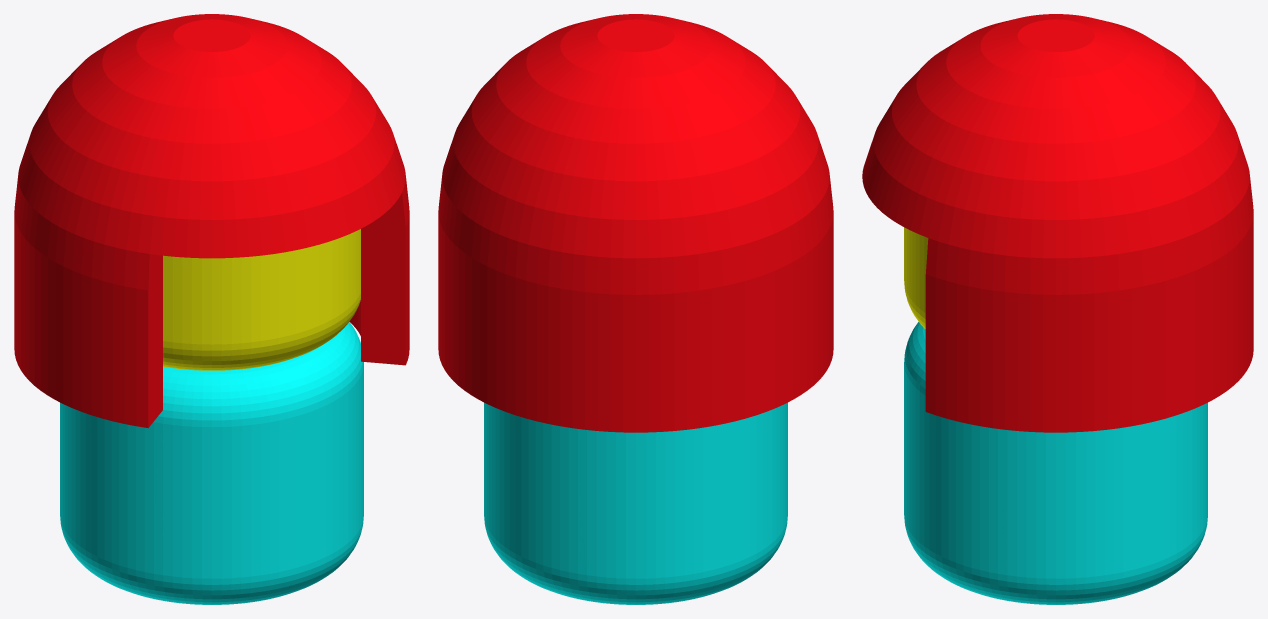
File: classic.glb
3 views of the same model, side by side, from view 1: azimuth 30°, elevation 25°; view 2: azimuth 150°, elevation 25°; view 3: azimuth 270°, elevation 25° (orthographic).
Parts seen in each view (by area): view 1: HAIR, BODY, FACE; view 2: HAIR, BODY; view 3: HAIR, BODY, FACE.
Boxes of the visible parts, x1=… form: HAIR: x1=14, y1=14, x2=409, y2=428; BODY: x1=60, y1=322, x2=363, y2=604; FACE: x1=163, y1=229, x2=360, y2=370; HAIR: x1=438, y1=14, x2=833, y2=432; BODY: x1=484, y1=402, x2=787, y2=604; HAIR: x1=862, y1=14, x2=1253, y2=432; BODY: x1=904, y1=322, x2=1207, y2=604; FACE: x1=904, y1=227, x2=928, y2=328.
Bounding box in the file's own units: 2.6 × 3.78 × 2.58.
